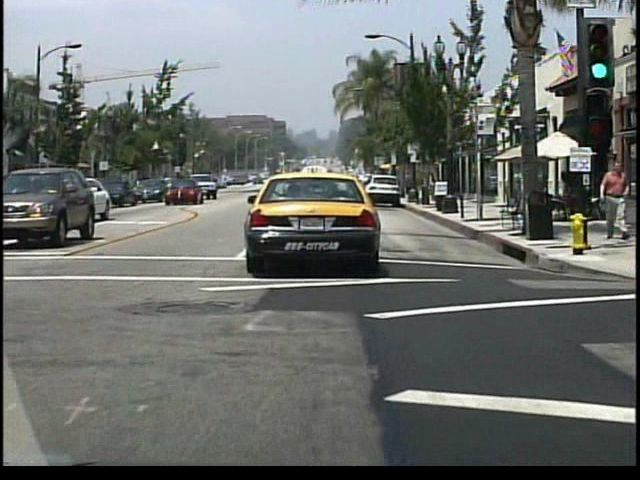person: (598, 160, 628, 239)
